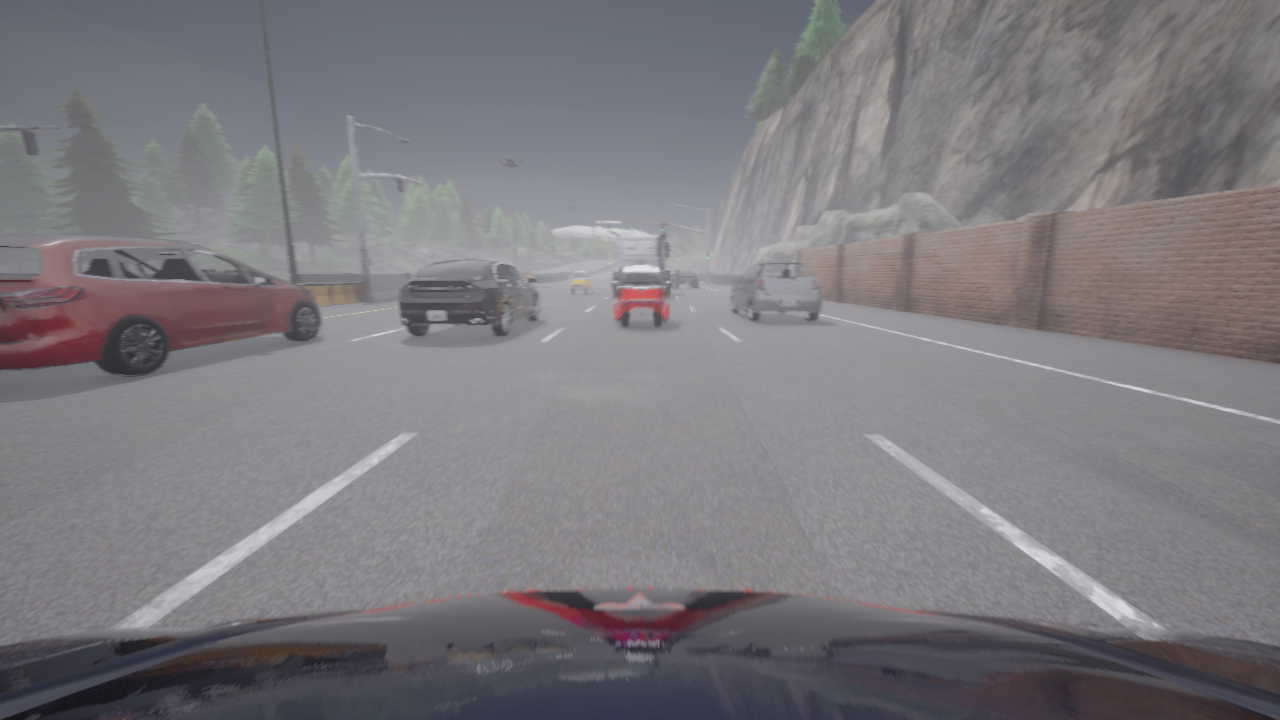cyclist: (0, 588, 1279, 719), (0, 235, 321, 375), (398, 258, 540, 336), (730, 261, 820, 321), (612, 266, 671, 327), (614, 233, 670, 297), (570, 270, 594, 294), (671, 269, 697, 288)
